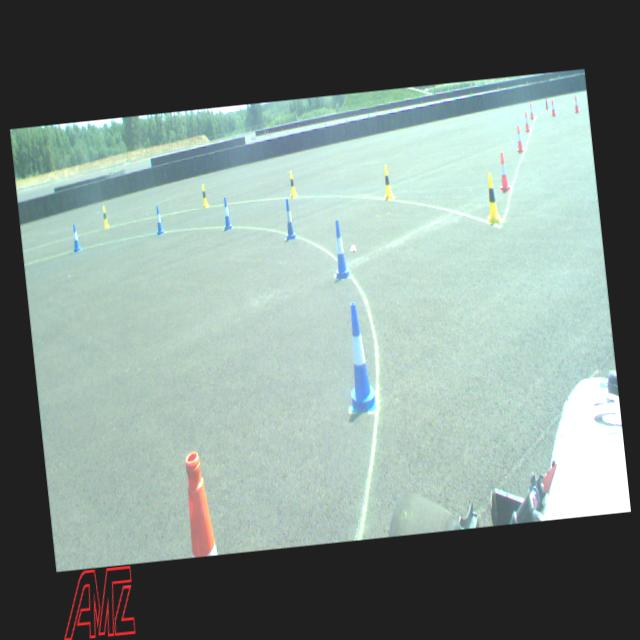blue_cone: (340, 300, 378, 412), (330, 218, 350, 279), (282, 198, 296, 240), (220, 196, 232, 230), (70, 222, 82, 252), (154, 204, 164, 236)
large_orange_cone: (182, 449, 218, 557)
orange_cone: (496, 151, 511, 192), (514, 124, 524, 152), (522, 111, 530, 131), (572, 94, 580, 112), (550, 99, 556, 116), (528, 102, 534, 119)
yellow_cone: (482, 172, 500, 223), (381, 164, 394, 199), (288, 170, 298, 197), (101, 204, 109, 228), (200, 183, 208, 207)
